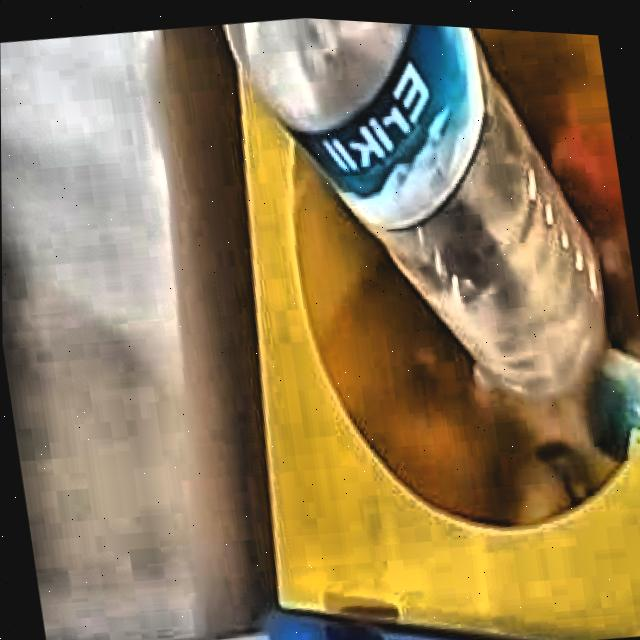plastic: (227, 14, 607, 395)
